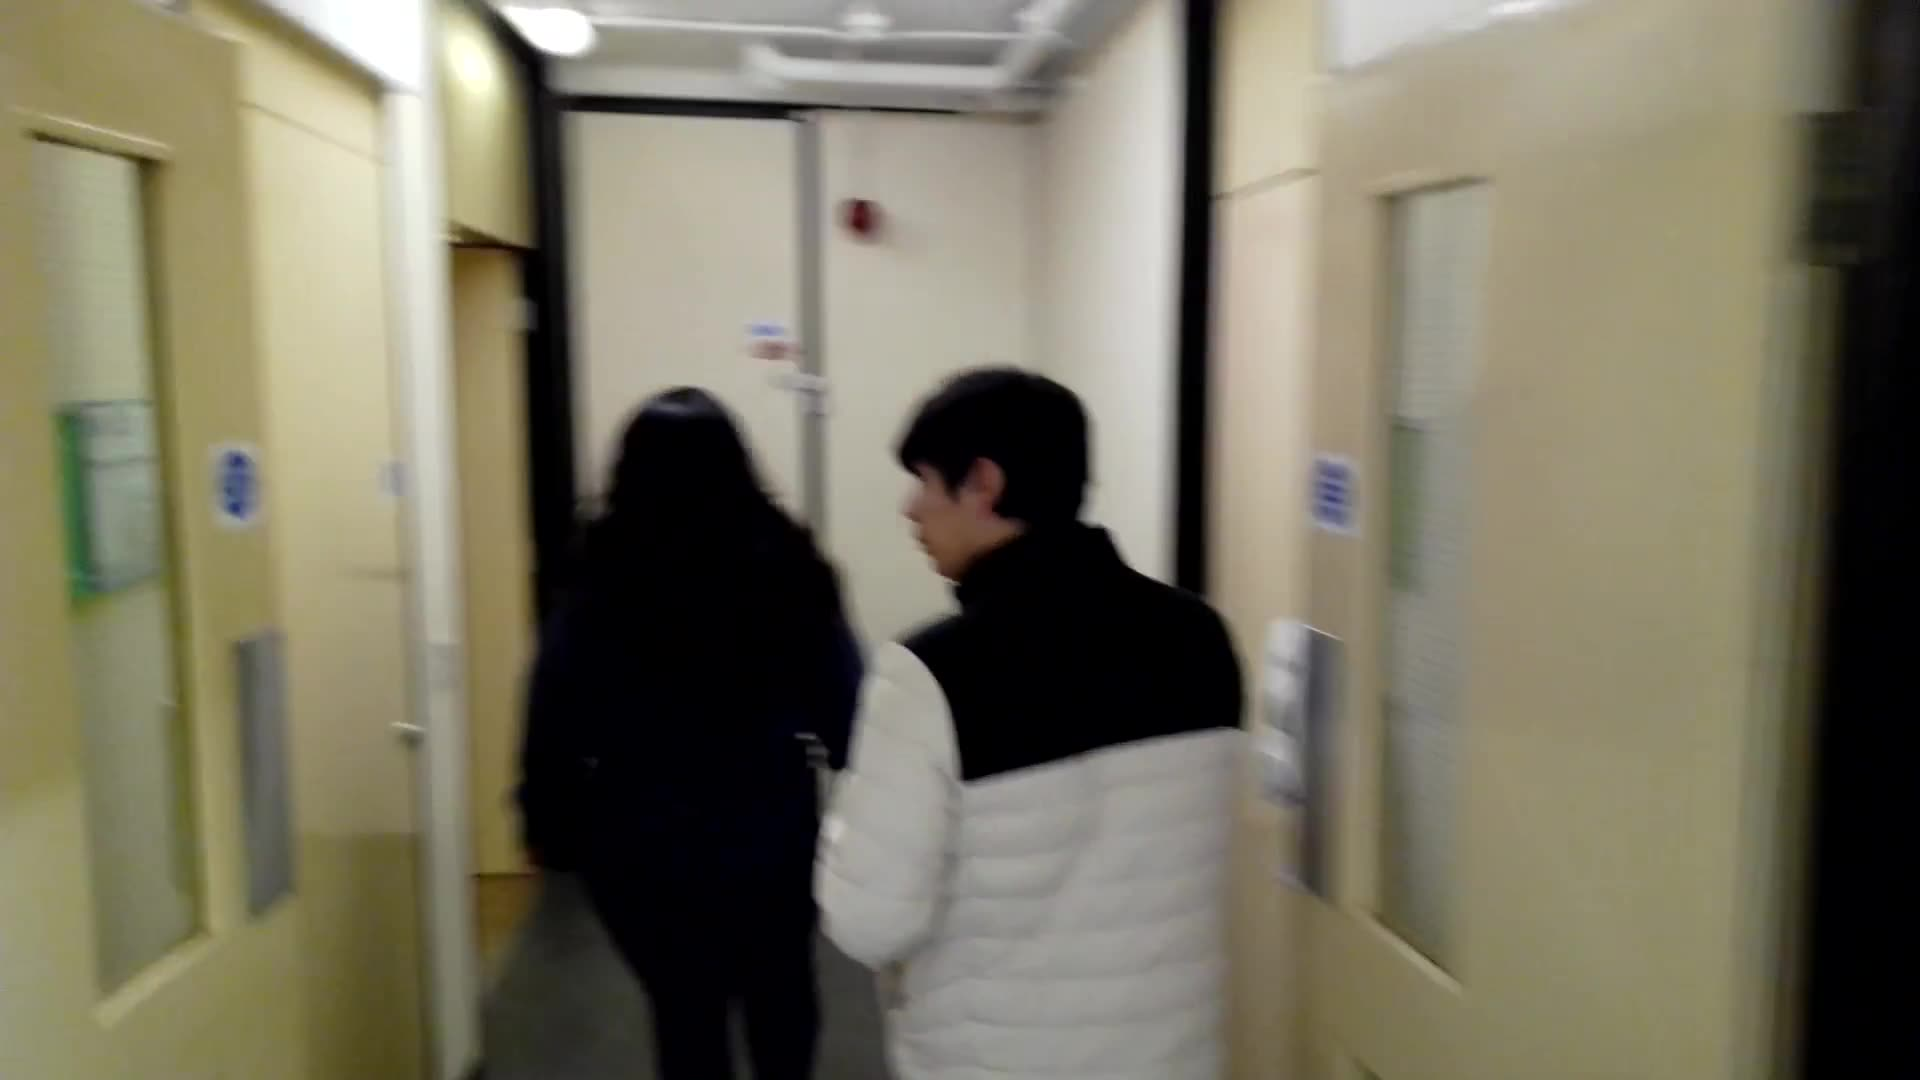Door: (1294, 43, 1821, 1080)
Person: (876, 367, 1233, 1080), (526, 383, 864, 1067)
